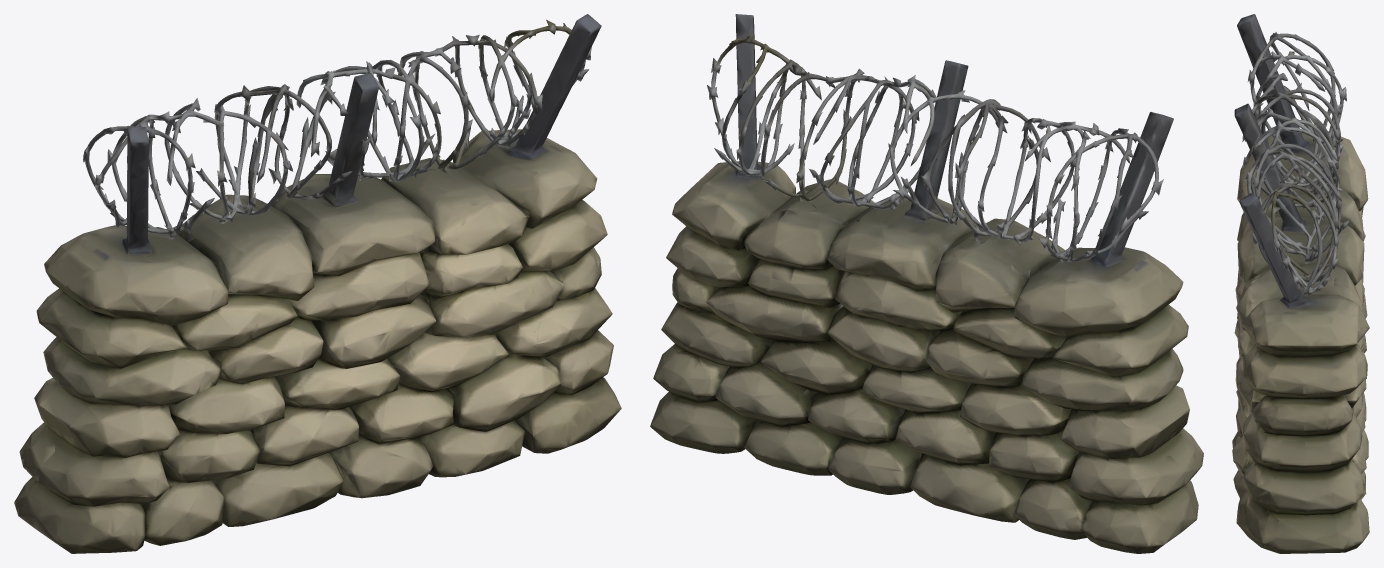
Rendered from sandbag_barricade.glb.
3 renders of one model, left to right at view 1: azimuth 30°, elevation 25°; view 2: azimuth 150°, elevation 25°; view 3: azimuth 270°, elevation 25°, orthographic. The views are drawn at different scales.
Parts seen in each view (by area): view 1: node_0; view 2: node_0; view 3: node_0.
Boxes of the visible parts, x1,y1,x2,y2 form: node_0: [14, 14, 621, 553]; node_0: [650, 14, 1203, 553]; node_0: [1232, 14, 1369, 553].
Size of the model in its own units: 0.9855 by 0.7125 by 0.2569.
1 material, 1 textured.
